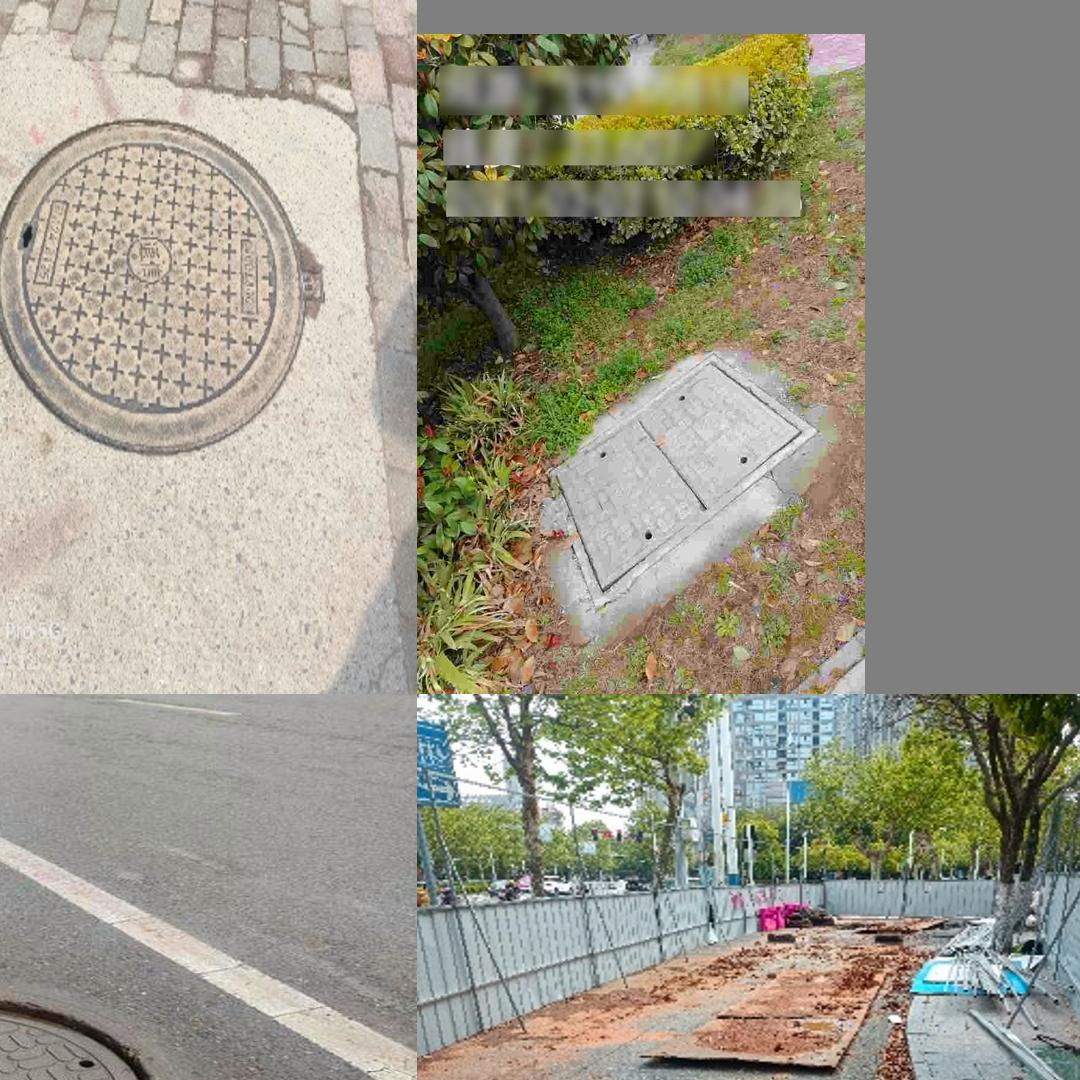good: (0, 112, 307, 460), (540, 353, 816, 576), (0, 963, 200, 1080)
